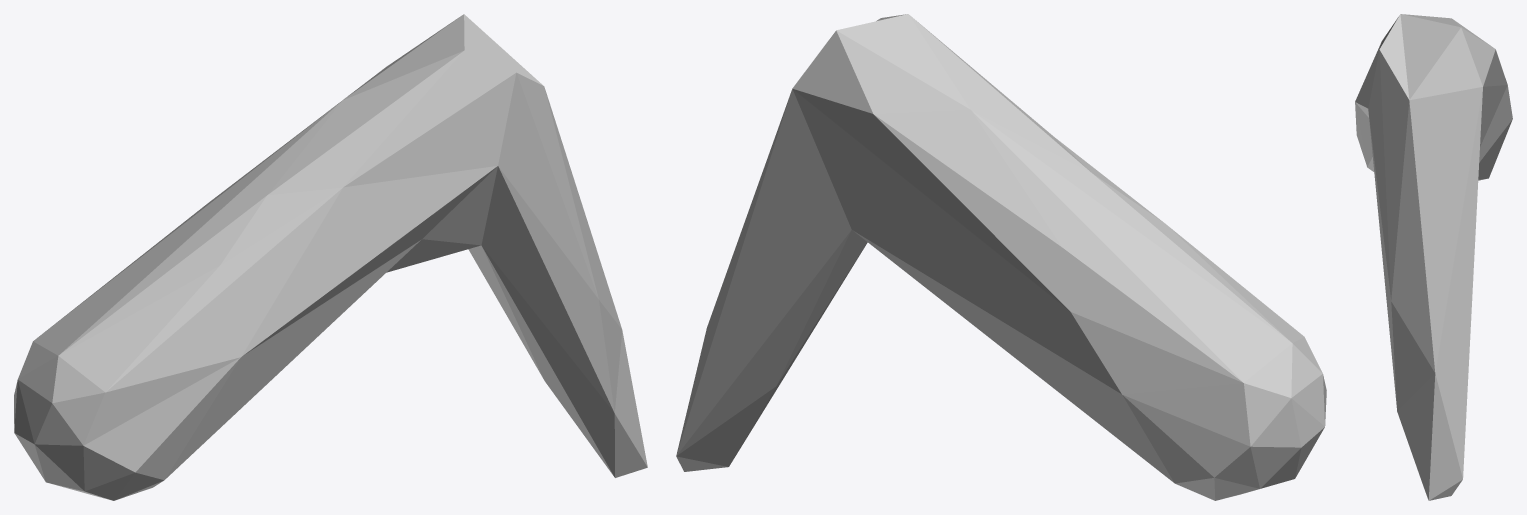
Rendered from animal_spelopede_blob_leg.obj.
3 views of the same model, side by side, from view 1: azimuth 30°, elevation 25°; view 2: azimuth 150°, elevation 25°; view 3: azimuth 270°, elevation 25° (orthographic). The views are drawn at different scales.
Parts seen in each view (by area): view 1: animal_spelopede_leg; view 2: animal_spelopede_leg; view 3: animal_spelopede_leg.
Part boxes in pixels (bbox=[...]): animal_spelopede_leg: bbox=[14, 14, 647, 500]; animal_spelopede_leg: bbox=[676, 14, 1326, 500]; animal_spelopede_leg: bbox=[1355, 14, 1512, 500].
Size of the model in its own units: 0.2575 by 0.1902 by 0.0671.
